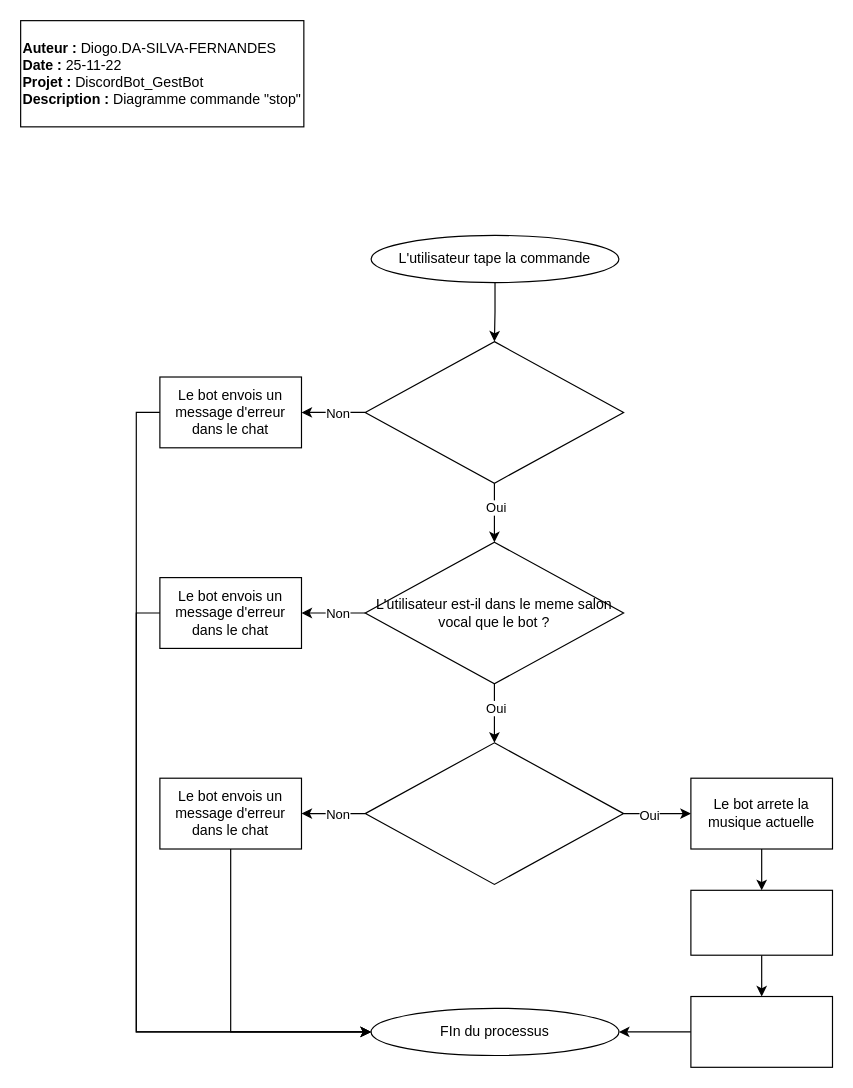
Some shapes in this 853 by 1088 pixel diagram are drawn without their labels. Here are the shapes that lost their labels. From the top down, the box of each, then its label:
(364, 340, 624, 483): Le bot est-il connecté à un salon vocal ?
(364, 742, 624, 884): Le bot joue-t-il de la musique ?
(690, 889, 832, 955): La liste d'attente est vidée
(690, 995, 832, 1067): Le bot quitte le salon vocal
